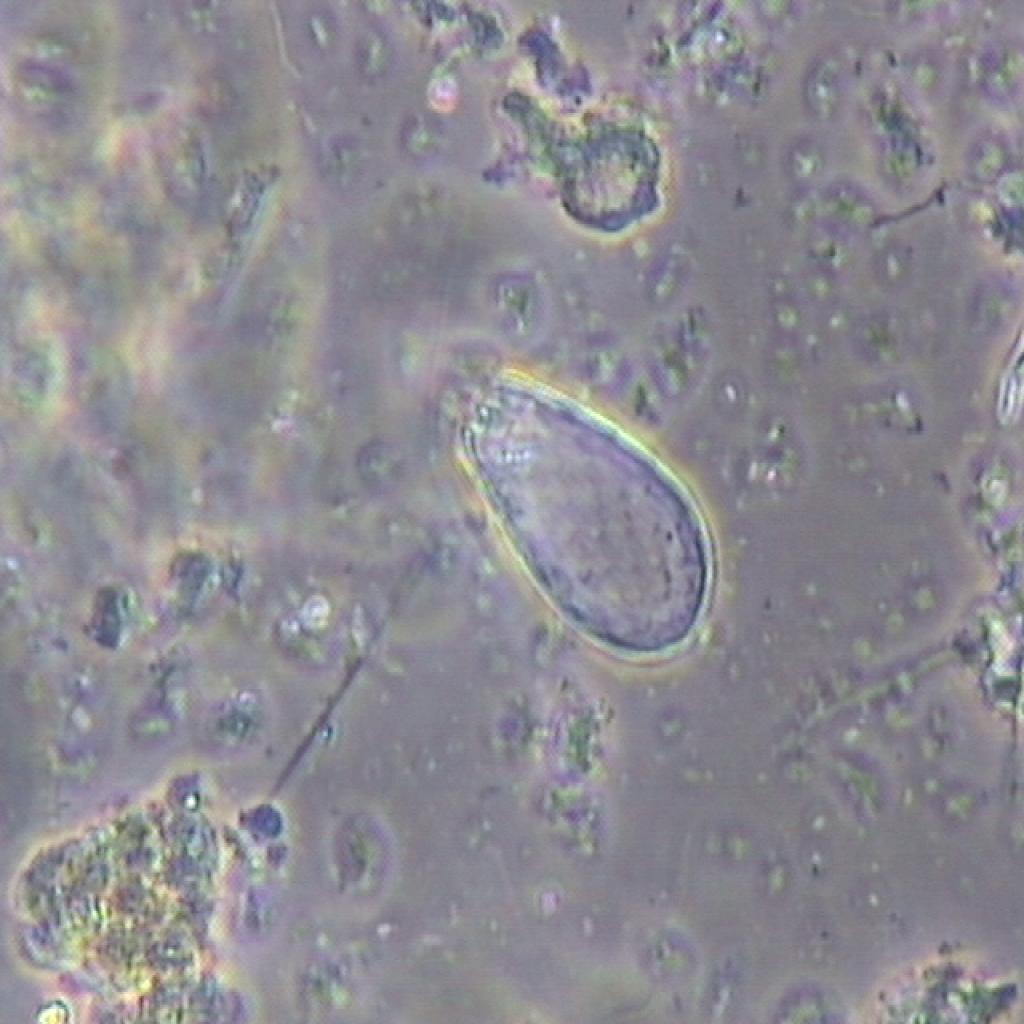Euglypha: (436, 339, 753, 687)
